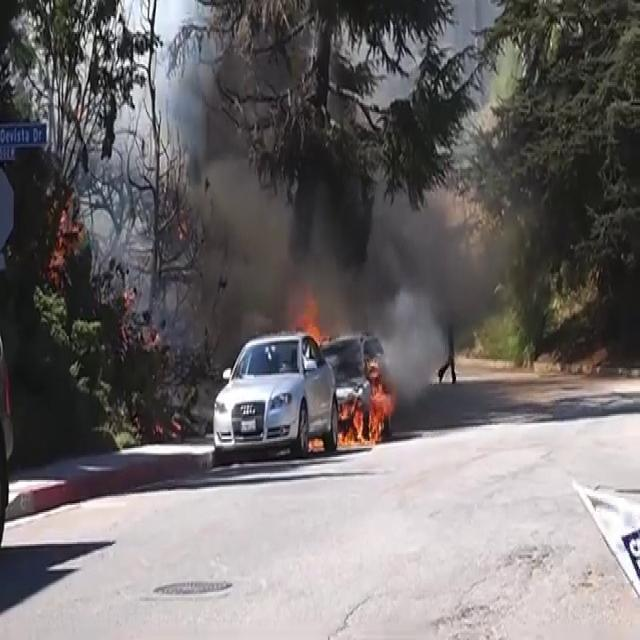Fire: (336, 366, 398, 452)
Smoke: (142, 95, 528, 362)
